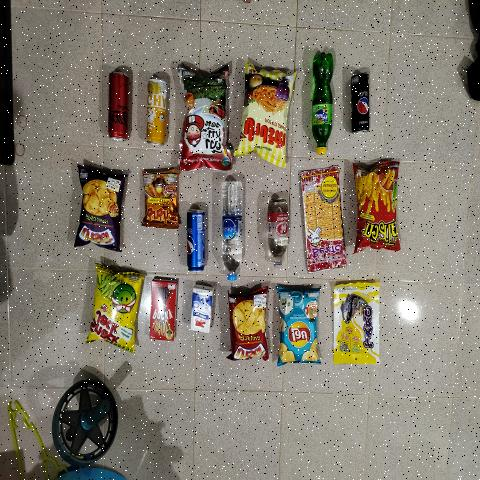bento_red: (303, 171, 344, 270)
coke_red: (107, 66, 131, 142)
crystal: (221, 177, 244, 282)
fanta_green: (308, 56, 334, 156)
lay_blue: (280, 289, 319, 364)
mama: (146, 171, 176, 225)
paprika: (239, 68, 296, 155)
party_purple: (80, 173, 118, 249)
party_red: (234, 292, 264, 360)
pepsi_black: (349, 72, 370, 138)
pepsi_blue: (187, 209, 205, 275)
pokki: (151, 279, 176, 342)
singha_soda: (266, 193, 290, 274)
singha_yellow: (146, 78, 169, 144)
snack_jack: (86, 271, 141, 349)
taokaenoi: (181, 71, 230, 168)
taro_yellow: (333, 285, 380, 364)
thai_denmark: (190, 283, 216, 331)
twisco: (358, 170, 398, 250)
